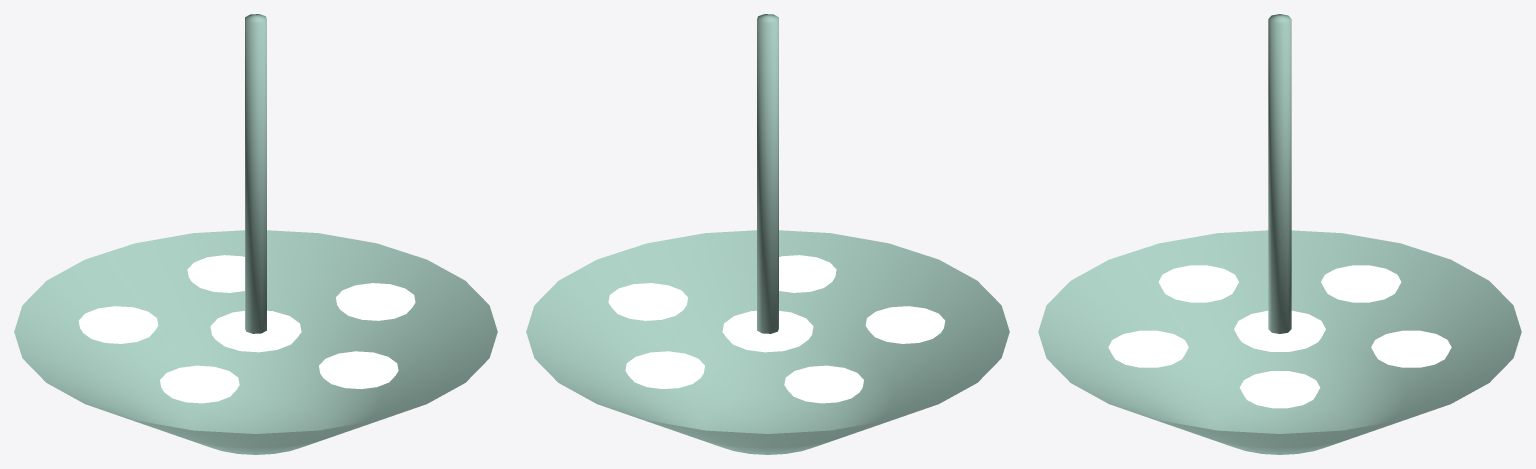
File: LampeOperatoire.glb
3 views of the same model, side by side, from view 1: azimuth 30°, elevation 25°; view 2: azimuth 150°, elevation 25°; view 3: azimuth 270°, elevation 25° (orthographic).
Parts seen in each view (by area): view 1: Coupole, Ampoules; view 2: Coupole, Ampoules; view 3: Coupole, Ampoules.
Boxes of the visible parts, x1,y1,x2,y2 form: Coupole: [14, 14, 497, 454]; Ampoules: [78, 255, 415, 403]; Coupole: [526, 14, 1009, 454]; Ampoules: [608, 255, 945, 403]; Coupole: [1038, 14, 1521, 454]; Ampoules: [1108, 265, 1451, 408].
Bounding box in the file's own units: 0.84 × 0.788 × 0.84.
